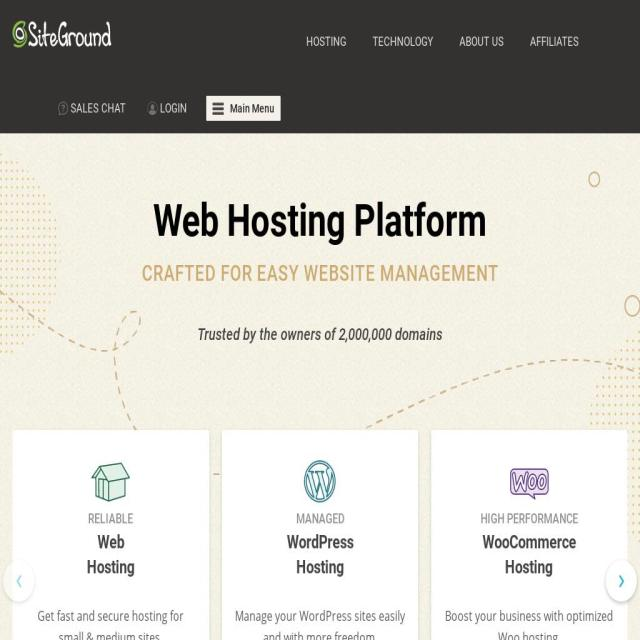button: (48, 84, 135, 134), (360, 17, 446, 66), (517, 17, 591, 66), (446, 17, 516, 66), (134, 84, 200, 134), (293, 17, 359, 66), (12, 21, 112, 47), (206, 96, 280, 121), (3, 560, 34, 602), (606, 560, 636, 602)
heading: (12, 192, 628, 250), (12, 258, 628, 288), (482, 532, 576, 552), (286, 532, 354, 552), (86, 556, 135, 578), (505, 556, 554, 578), (296, 556, 344, 578), (97, 532, 124, 552)
image: (12, 21, 112, 47), (300, 455, 341, 508), (91, 455, 131, 508), (509, 455, 549, 508), (212, 102, 224, 115), (58, 102, 68, 115), (148, 102, 158, 115)
text: (12, 288, 628, 380), (443, 605, 616, 640), (25, 605, 197, 640), (234, 605, 406, 640), (70, 84, 126, 134), (480, 511, 578, 527), (160, 84, 187, 134), (296, 511, 344, 527), (529, 34, 579, 49), (88, 511, 134, 527), (230, 101, 274, 116), (15, 558, 23, 598), (617, 558, 625, 598)
